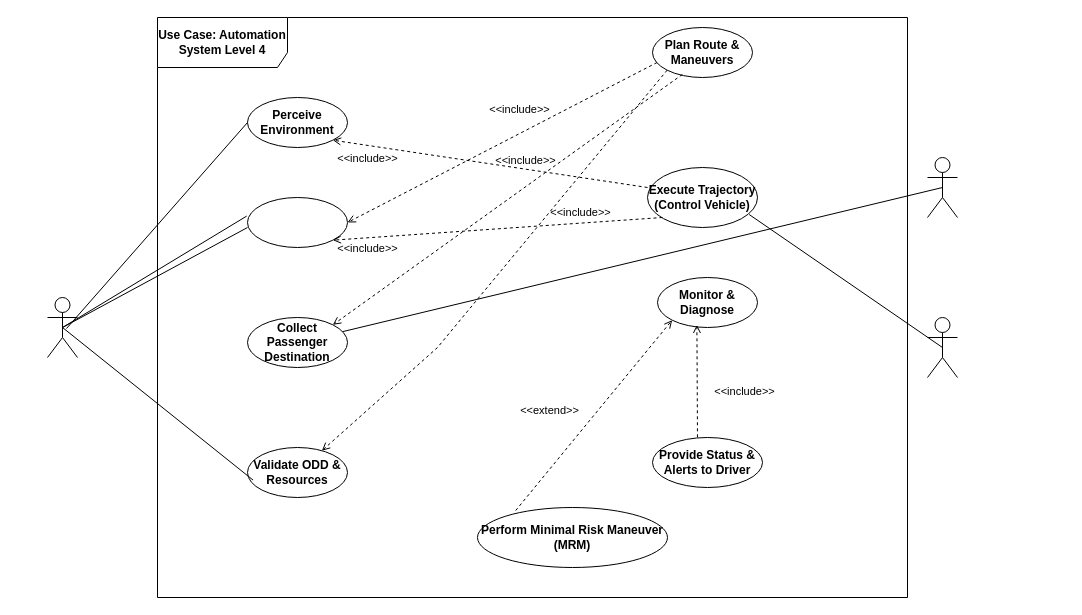
The diagram is 1082 pixels wide and 615 high, and some of its shapes have lost their labels. The shapes that lost their labels are listed below. From the top down, each one's centre as x and y in pixels, then its label:
At point 942,187: "HMI / Driver Interface".
At point 297,222: "Localize & Map".
At point 62,327: "Environment & Data Providers".
At point 942,347: "Actuators (Steering / Throttle / Brake)".
